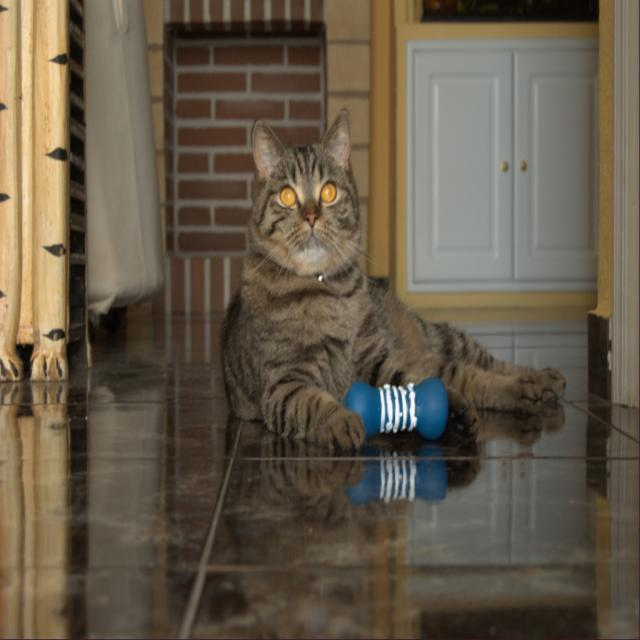Cat: (219, 120, 565, 450)
